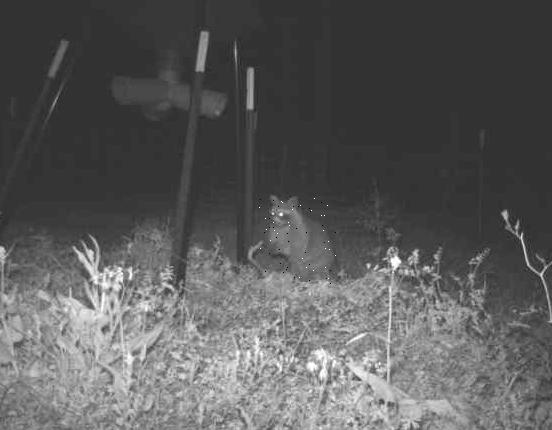Raccoon: (258, 196, 335, 286)
